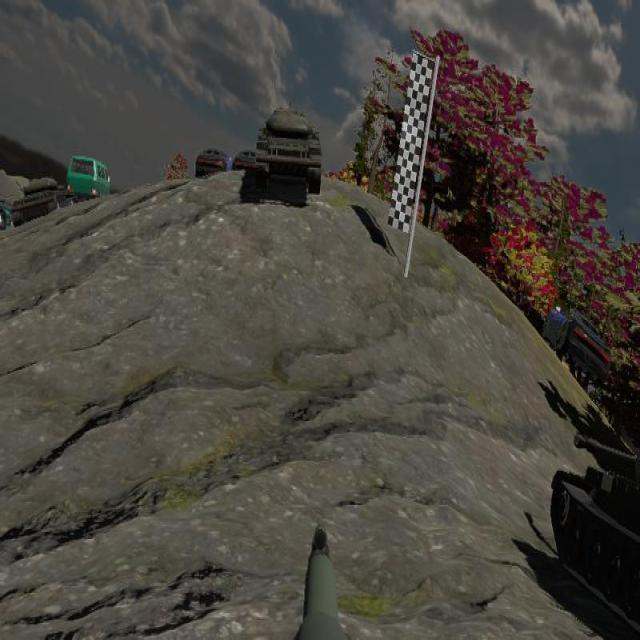Tank: (548, 398, 640, 635), (255, 104, 322, 198), (13, 175, 70, 226)
car: (543, 306, 611, 374), (67, 155, 111, 206)
